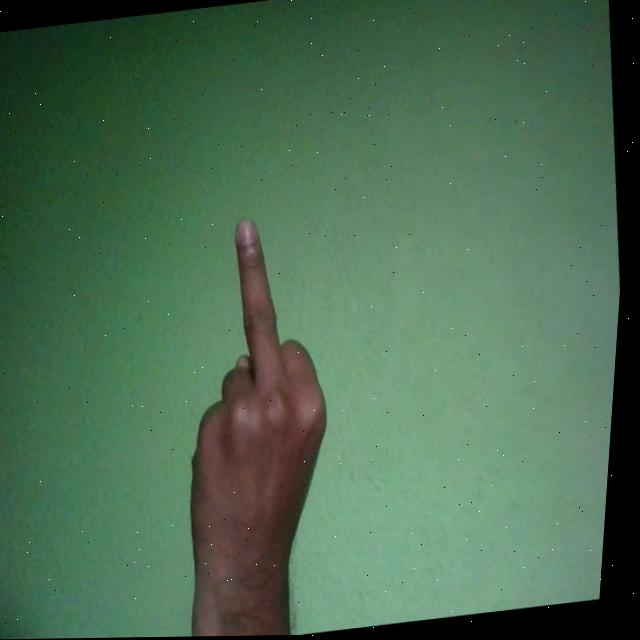Middle Finger: (159, 206, 367, 638)
